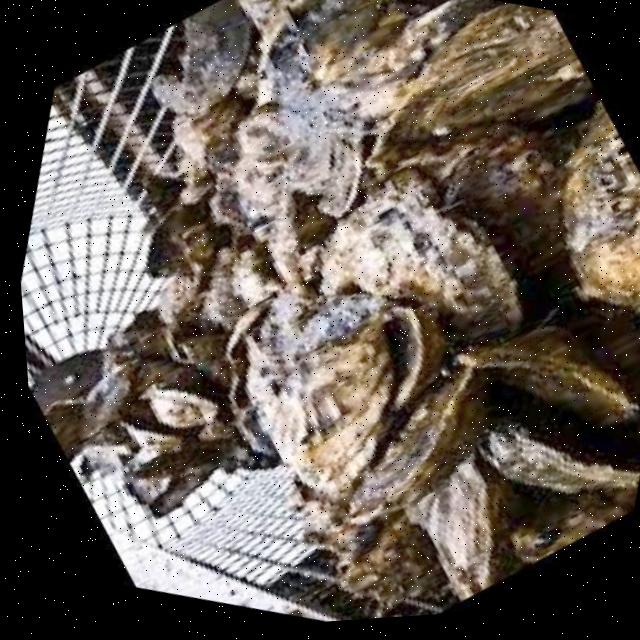Oyster-Closed: (369, 3, 590, 168), (348, 362, 485, 524), (457, 328, 637, 425), (479, 424, 640, 494), (141, 384, 217, 428)
Oyster-Indeterminate: (246, 292, 445, 497), (320, 170, 520, 335), (562, 104, 640, 310), (406, 458, 493, 599), (134, 180, 224, 298), (144, 91, 249, 169), (221, 104, 306, 167), (84, 352, 130, 438), (317, 136, 363, 218), (121, 423, 179, 454)
Oyster-Open: (120, 311, 235, 378)
